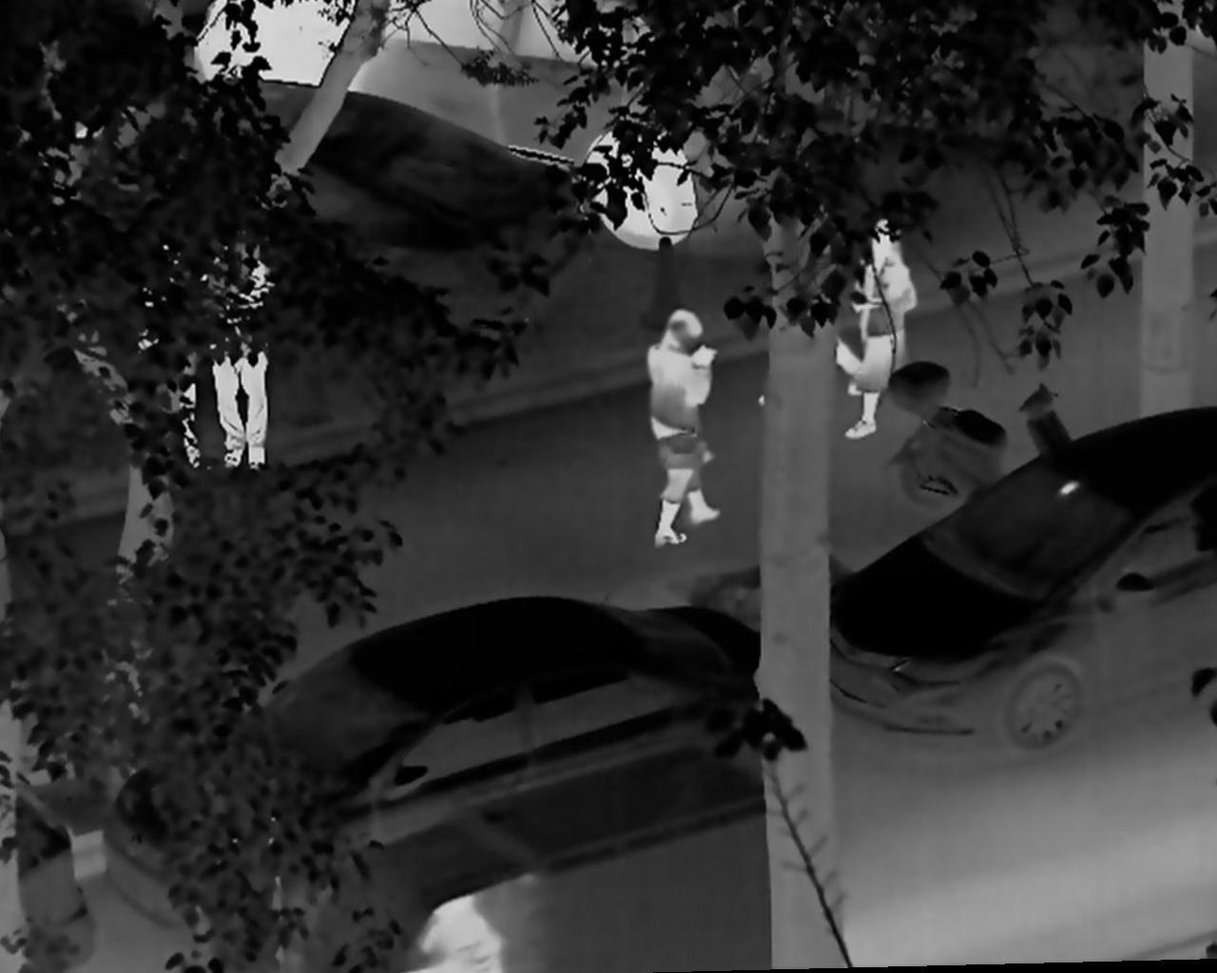person: (198, 210, 288, 478), (629, 304, 721, 549), (844, 206, 920, 443), (752, 303, 870, 414), (406, 889, 513, 973)
